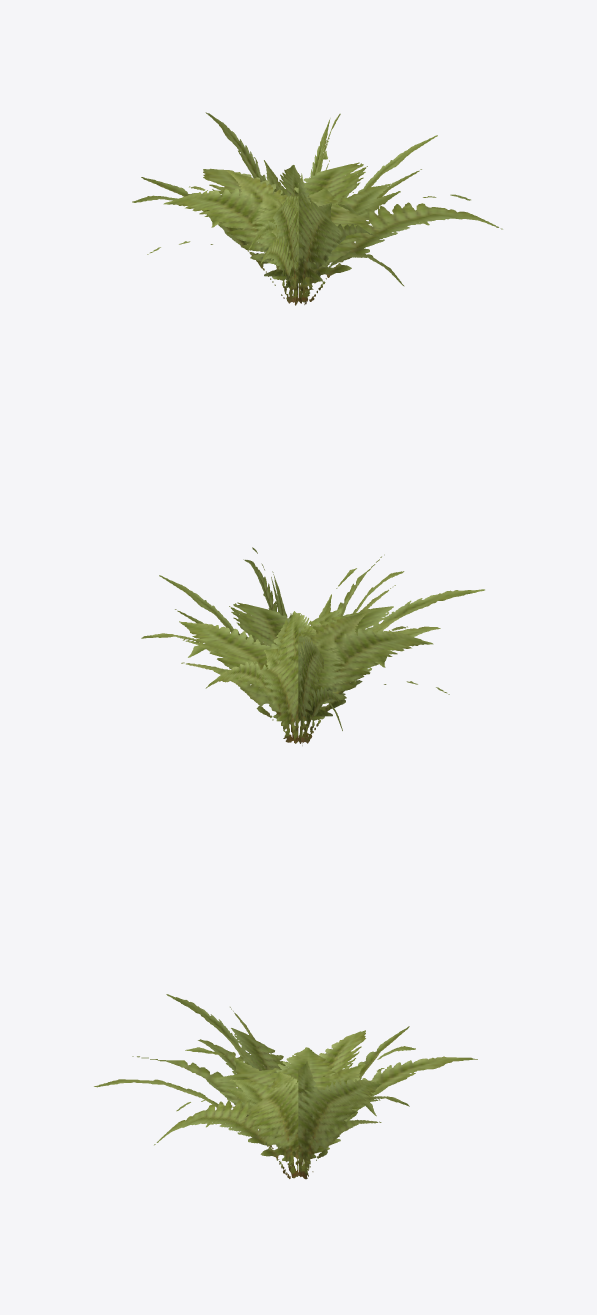
The model's file is fern_large_a_lod3_cross.gltf.
3 renders of one model, top to bottom at view 1: azimuth 30°, elevation 25°; view 2: azimuth 150°, elevation 25°; view 3: azimuth 270°, elevation 25°, orthographic. The views are drawn at different scales.
Visible parts, largest first — view 1: fern_large_a_LOD3; view 2: fern_large_a_LOD3; view 3: fern_large_a_LOD3.
Boxes of the visible parts, box(x1,y1,x2,y2) form: fern_large_a_LOD3: box(132, 112, 502, 305); fern_large_a_LOD3: box(141, 547, 484, 745); fern_large_a_LOD3: box(94, 994, 477, 1179).
Bounding box in the file's own units: 2.51 × 0.8063 × 2.51.
1 material, 1 textured.
